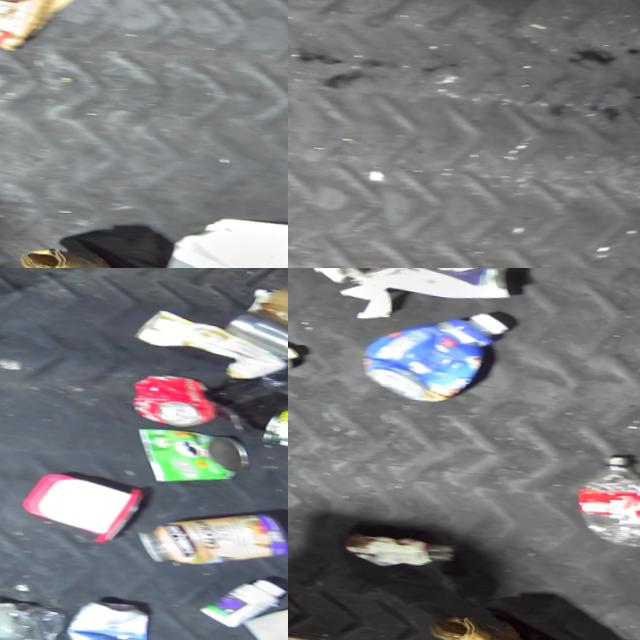can: (133, 426, 248, 482), (118, 367, 216, 425), (57, 595, 146, 640)
milk_jug: (149, 208, 288, 268), (221, 581, 288, 640)
non_white_jug: (353, 302, 507, 405)
plastic_bottle: (567, 449, 640, 545)
